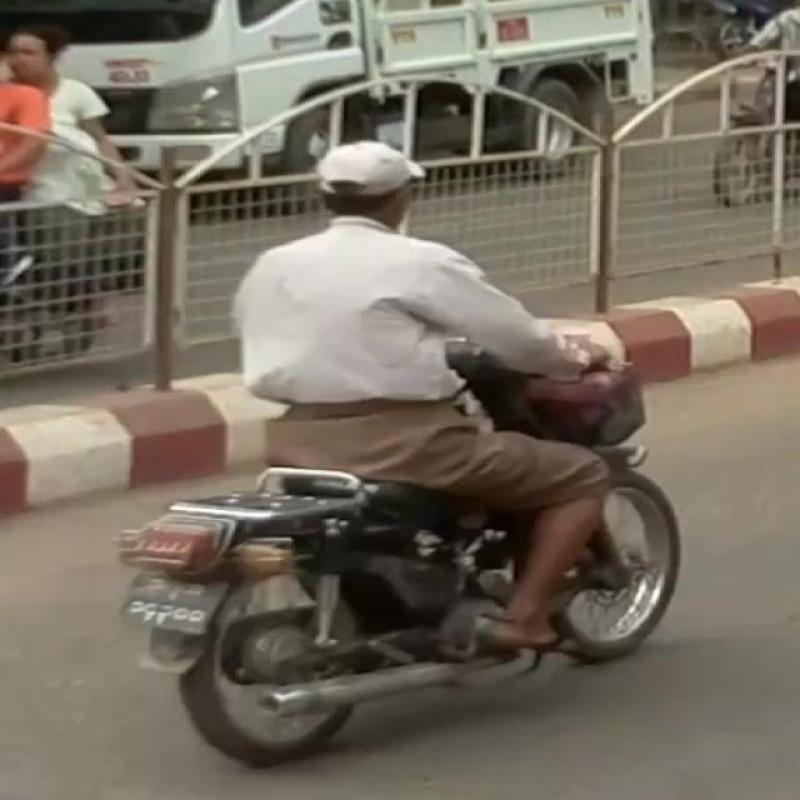nohelmet: (304, 118, 420, 272)
